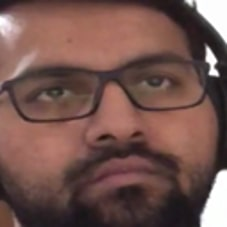drowsy: (10, 33, 204, 203)
